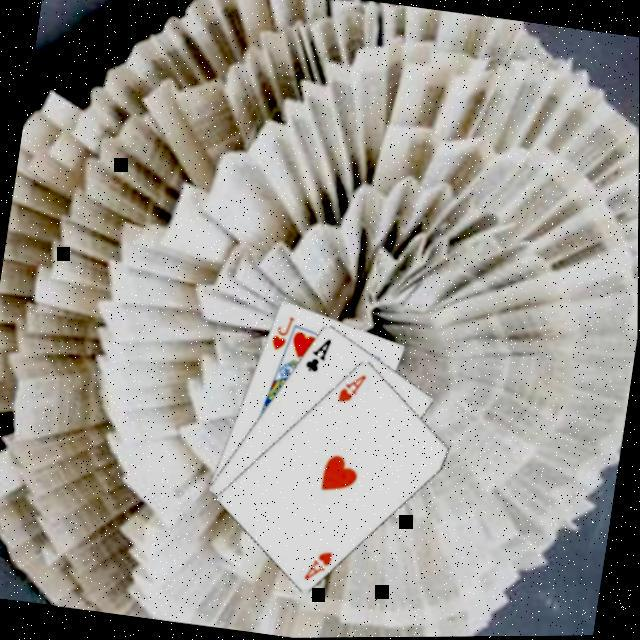AC: (302, 332, 334, 376)
AH: (299, 544, 336, 585), (334, 368, 368, 408)
JH: (267, 310, 297, 355)
